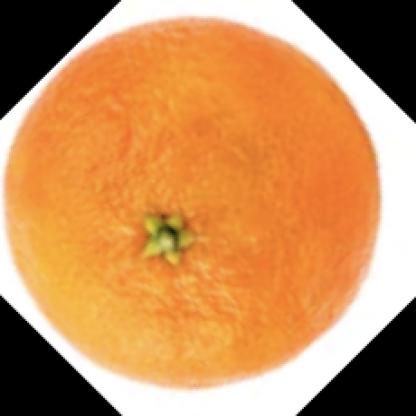fresh: (6, 19, 382, 387)
